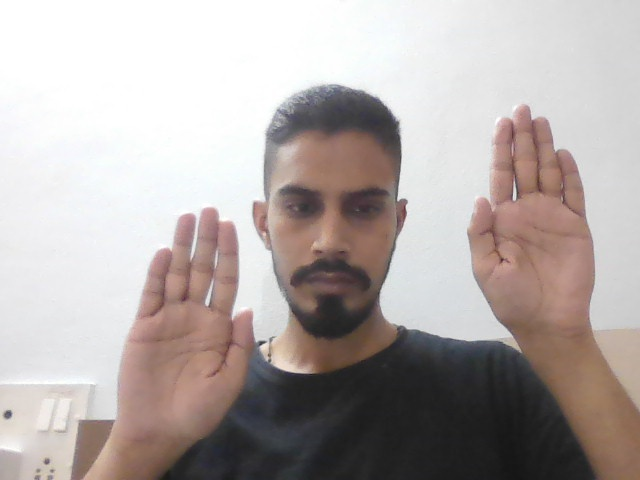Stop: (117, 200, 253, 447)
